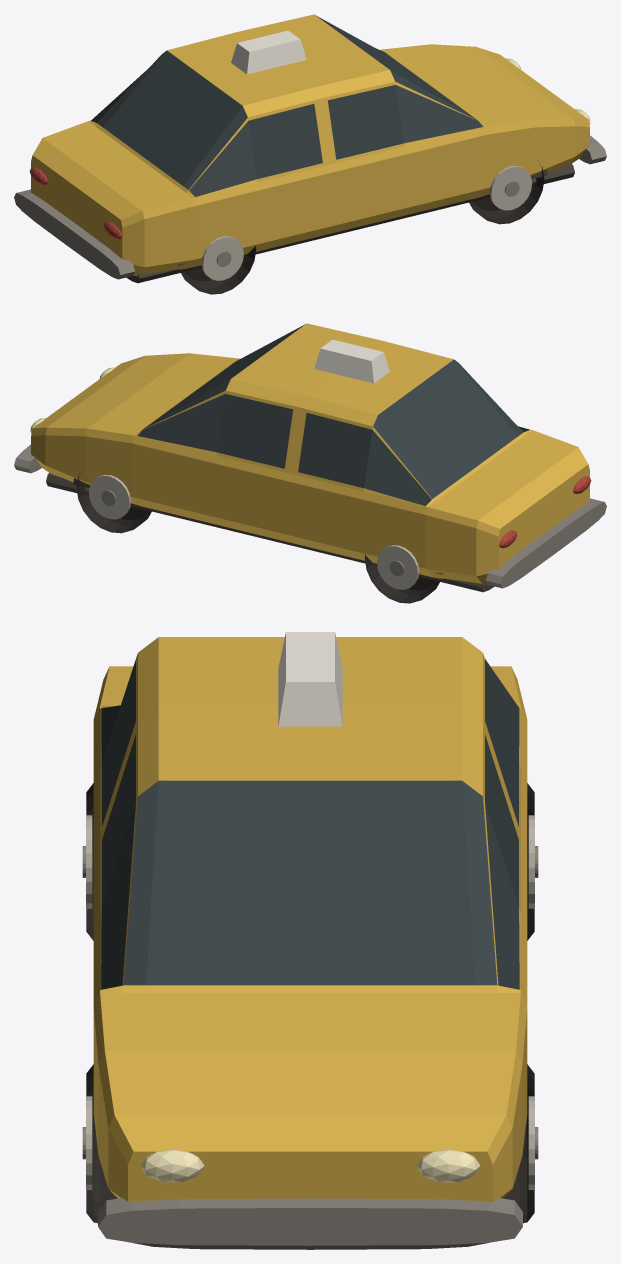
File: taksi.glb
3 renders of one model, top to bottom at view 1: azimuth 30°, elevation 25°; view 2: azimuth 150°, elevation 25°; view 3: azimuth 270°, elevation 25°, orthographic. The views are drawn at different scales.
Parts seen in each view (by area): view 1: taksi, cam, tampon, jant, lastik, a_beyaz, ic, stop; view 2: taksi, cam, tampon, jant, lastik, a_beyaz, ic, stop; view 3: taksi, cam, tampon, a_beyaz, lastik, far, jant, ic.
Part boxes in pixels (left/top/right/bottom): taksi: left=31, top=14, right=589, bottom=276; cam: left=91, top=15, right=483, bottom=196; tampon: left=14, top=135, right=606, bottom=279; jant: left=201, top=165, right=532, bottom=280; lastik: left=181, top=160, right=544, bottom=294; a_beyaz: left=231, top=30, right=306, bottom=74; ic: left=126, top=163, right=574, bottom=283; stop: left=29, top=167, right=122, bottom=239; taksi: left=31, top=323, right=589, bottom=585; cam: left=137, top=324, right=529, bottom=505; tampon: left=14, top=444, right=606, bottom=588; jant: left=88, top=474, right=419, bottom=589; lastik: left=76, top=469, right=439, bottom=603; a_beyaz: left=314, top=339, right=389, bottom=383; ic: left=46, top=472, right=494, bottom=592; stop: left=498, top=476, right=591, bottom=548; taksi: left=93, top=637, right=527, bottom=1201; cam: left=101, top=659, right=519, bottom=989; tampon: left=82, top=780, right=538, bottom=1245; a_beyaz: left=278, top=632, right=342, bottom=726; lastik: left=86, top=783, right=534, bottom=1223; far: left=140, top=1150, right=480, bottom=1182; jant: left=86, top=815, right=534, bottom=1189; ic: left=104, top=780, right=516, bottom=1249.
Size of the model in its own units: 4.56 by 1.69 by 1.85.
